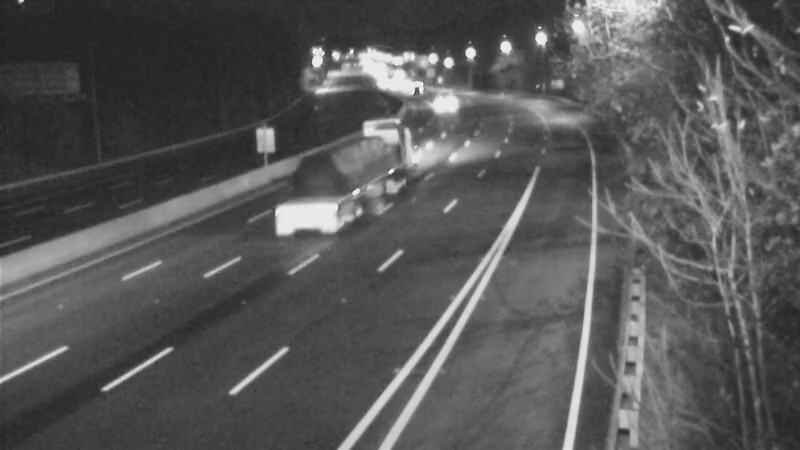vehicle: (306, 132, 386, 212), (392, 63, 442, 113), (422, 76, 472, 126)
